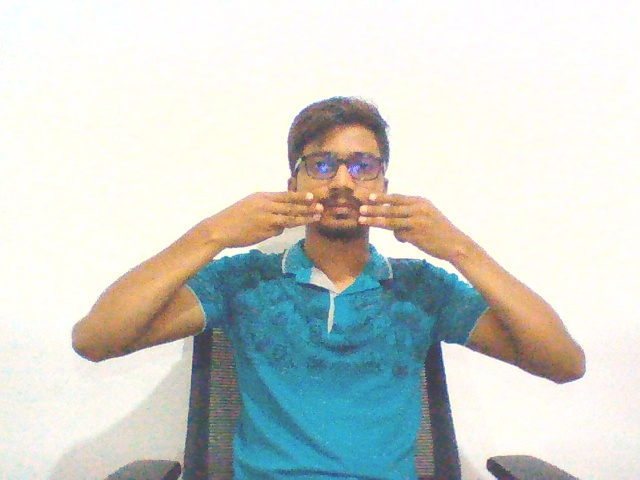cat: (185, 182, 495, 271)
